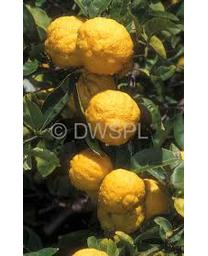lemon: (77, 16, 134, 76), (86, 90, 142, 146), (43, 15, 85, 69), (97, 168, 144, 216), (67, 147, 111, 190)
